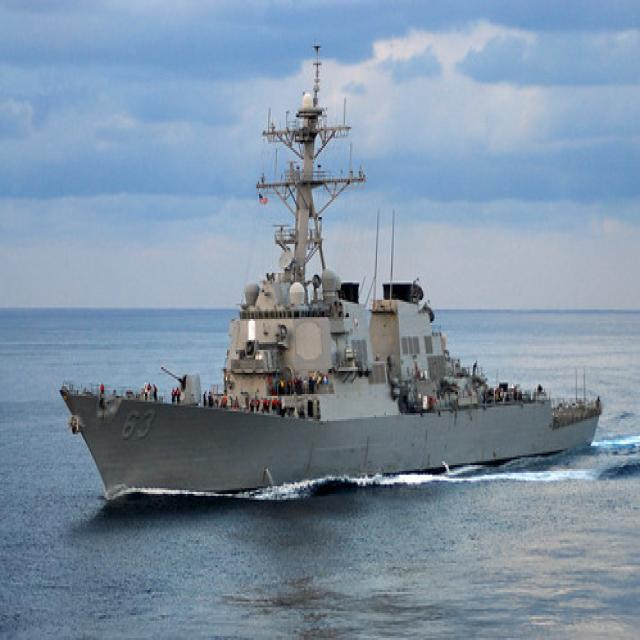navalvessels: (49, 51, 611, 503)
